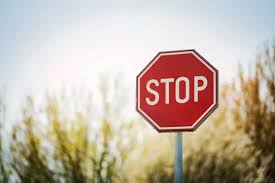stop sign: (135, 49, 219, 133)
